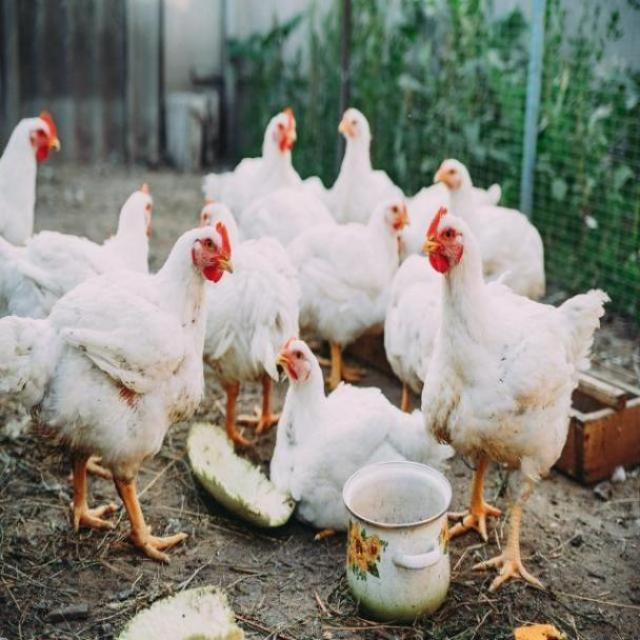Chicken: (184, 217, 237, 289), (267, 341, 319, 397), (420, 213, 465, 269), (119, 188, 159, 247), (262, 103, 301, 161), (13, 115, 59, 163), (331, 105, 374, 153), (376, 193, 414, 246), (429, 160, 469, 203)
